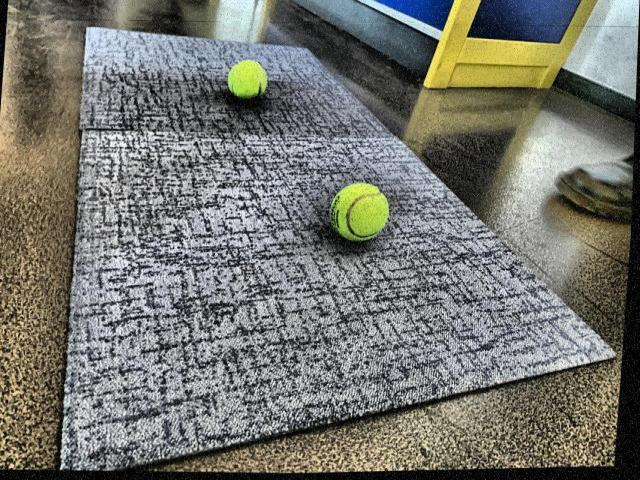tennis-ball: (329, 183, 389, 241), (228, 60, 268, 100)
